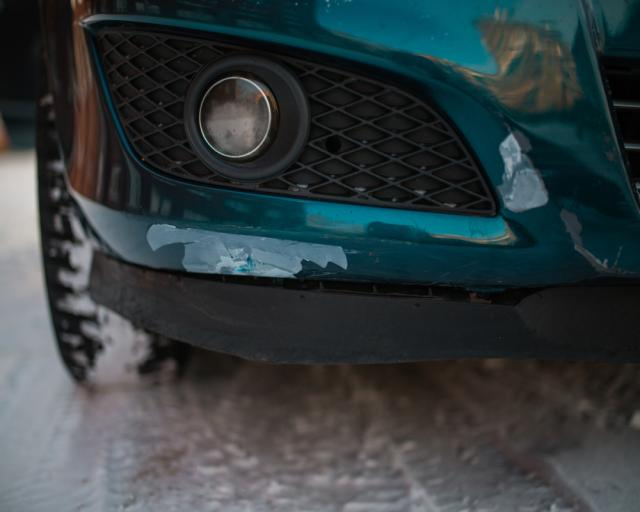scratch: (497, 123, 635, 282), (143, 220, 361, 278)
